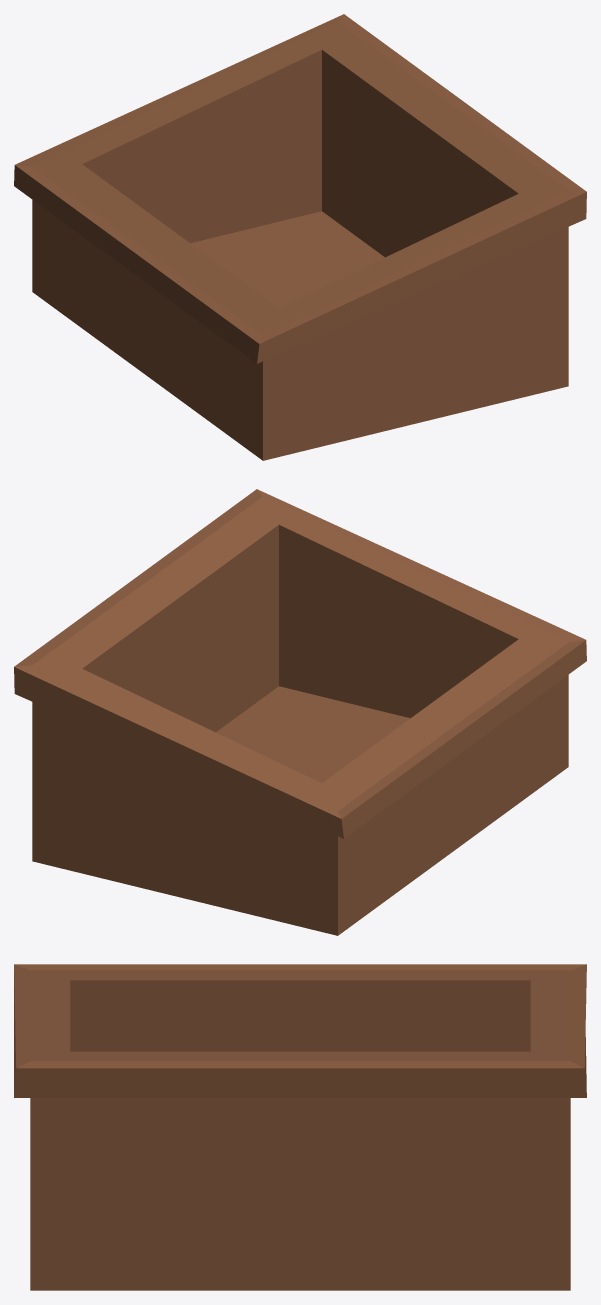
Rendered from crate02.fbx.
3 views of the same model, one above another, from view 1: azimuth 30°, elevation 25°; view 2: azimuth 150°, elevation 25°; view 3: azimuth 270°, elevation 25° (orthographic). The views are drawn at different scales.
Parts seen in each view (by area): view 1: crate02; view 2: crate02; view 3: crate02.
Boxes of the visible parts, x1,y1,x2,y2 form: crate02: [14, 14, 586, 460]; crate02: [14, 489, 586, 935]; crate02: [14, 964, 586, 1290].
Size of the model in its own units: 44.86 by 25.46 by 57.62.
1 material, 1 textured.
